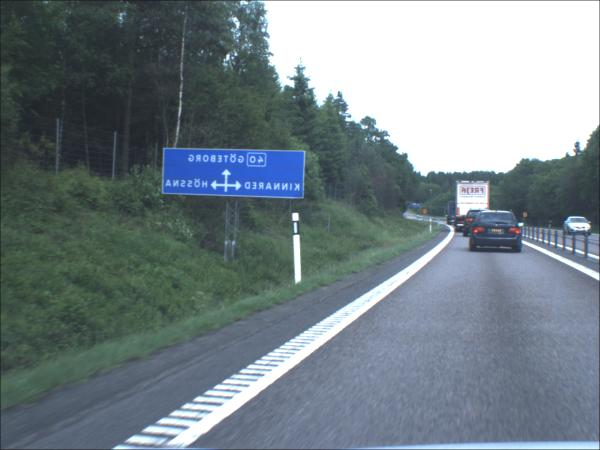70_SIGN: (523, 214, 528, 220), (423, 211, 427, 215)
